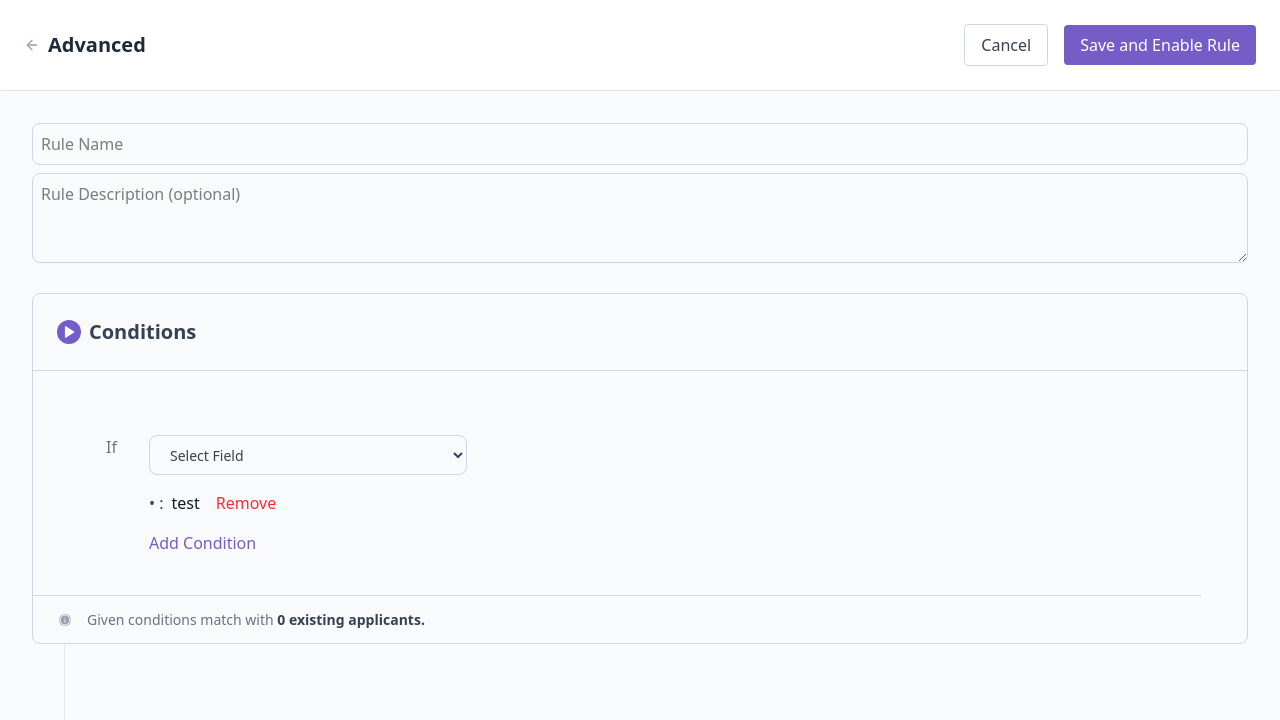
Scenario: RuleEditor Component › handles API errors gracefully
Note: Enter a rule name
Type "Test Rule" into the field with placeholder "Rule Name".
click(640, 144); type("Test Rule")  # box [32,123,1248,165]
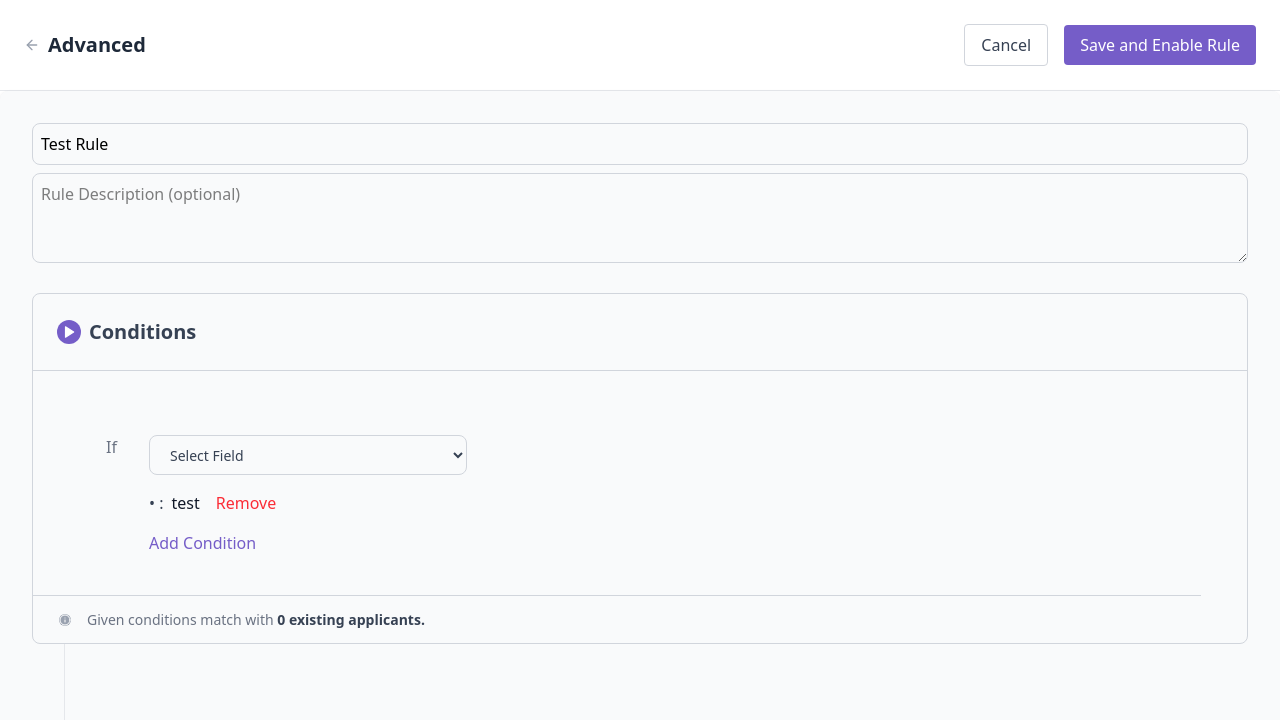
Note: Try to save
Click the button "Save and Enable Rule".
click(1160, 45)  # box [1064,25,1256,65]
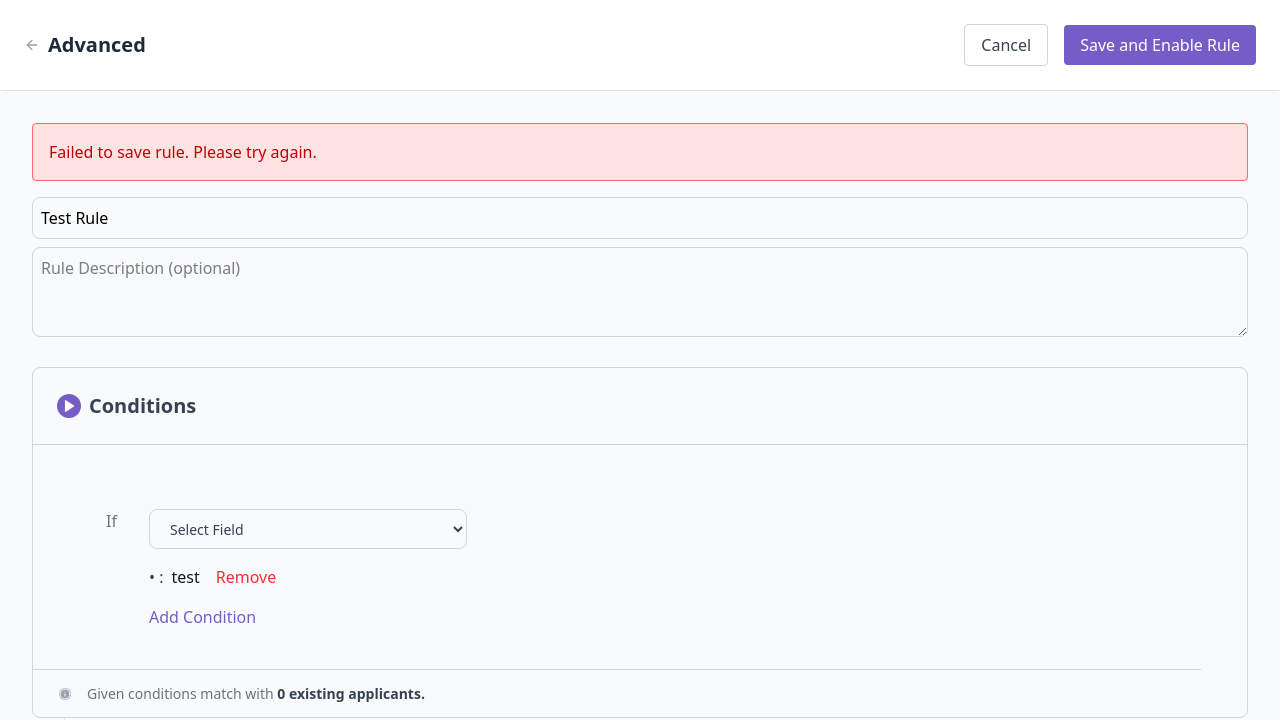
Now the text "Failed to save rule. Please try again." is shown, box [32,123,1248,181]
